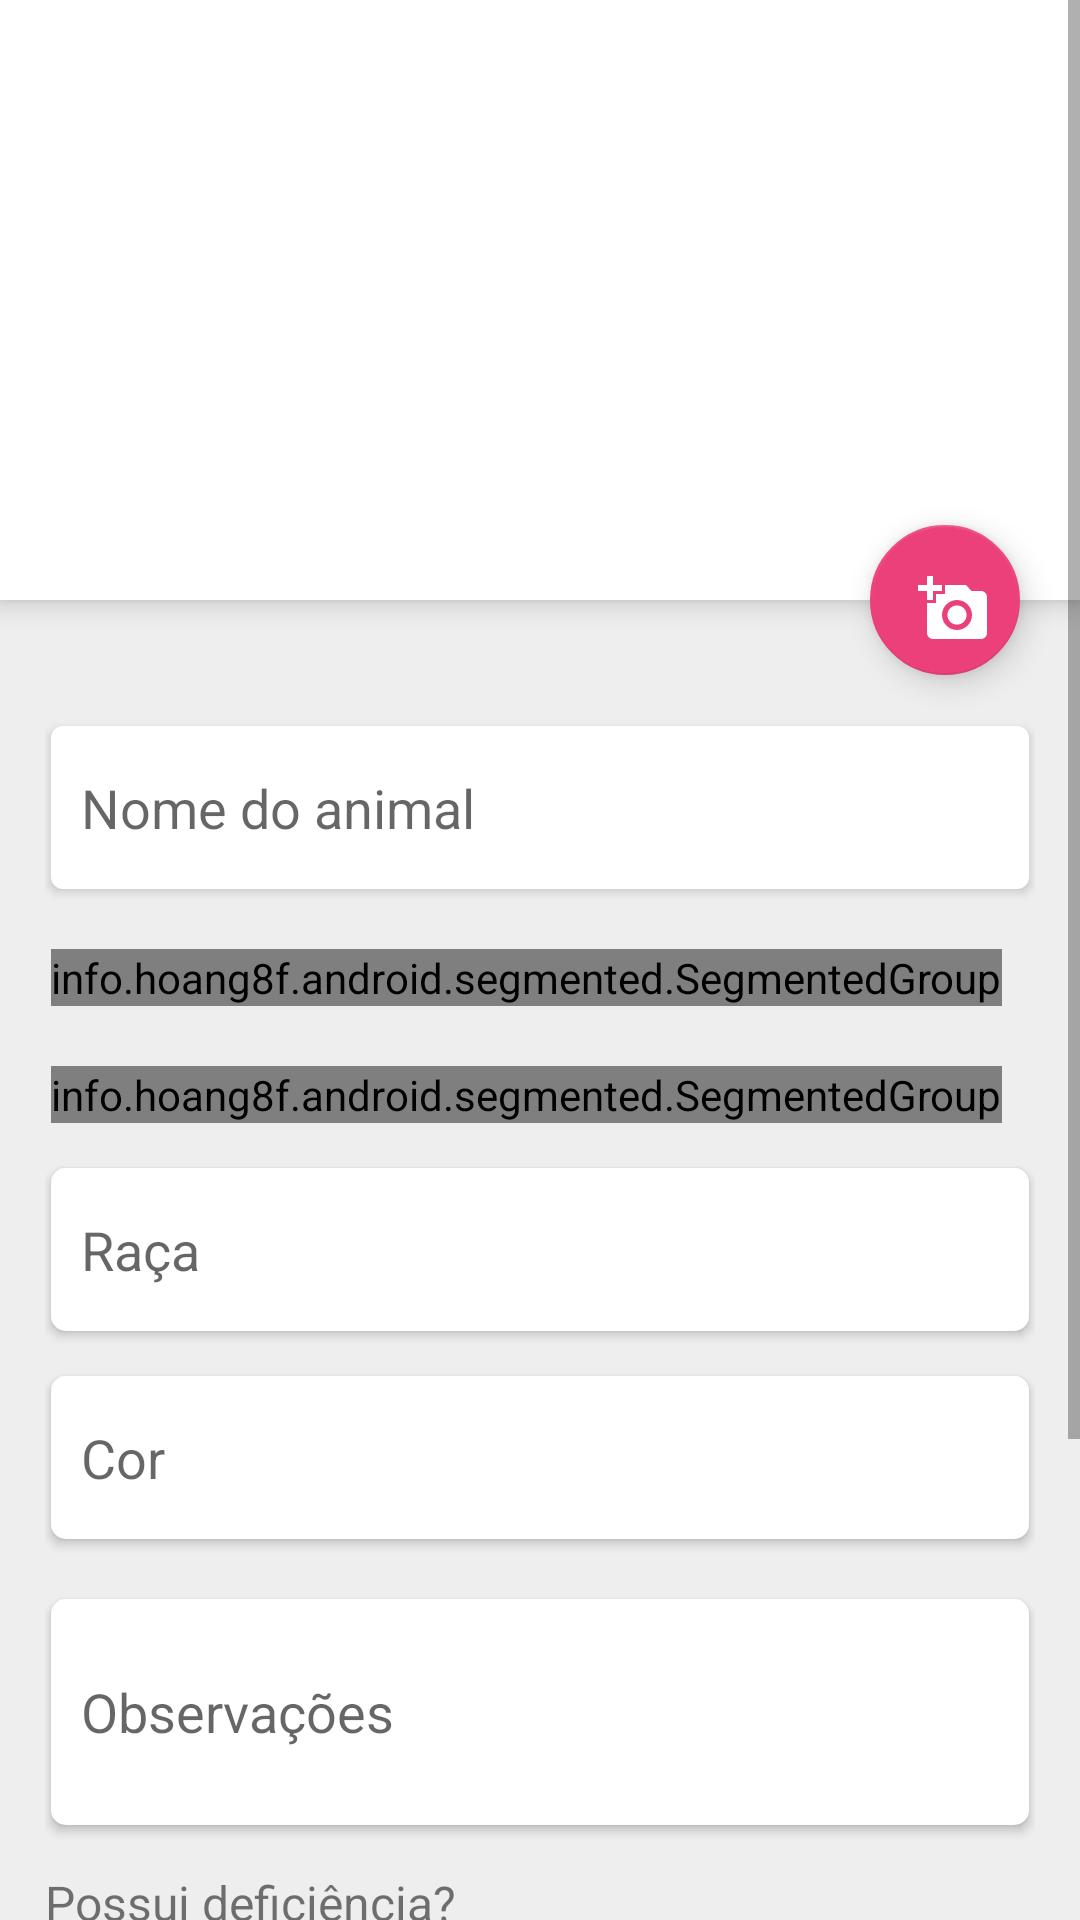

Named icons in this screenshot (1080x1920) and their centers, (x=x, y=y):
add photo: (x=945, y=600)
